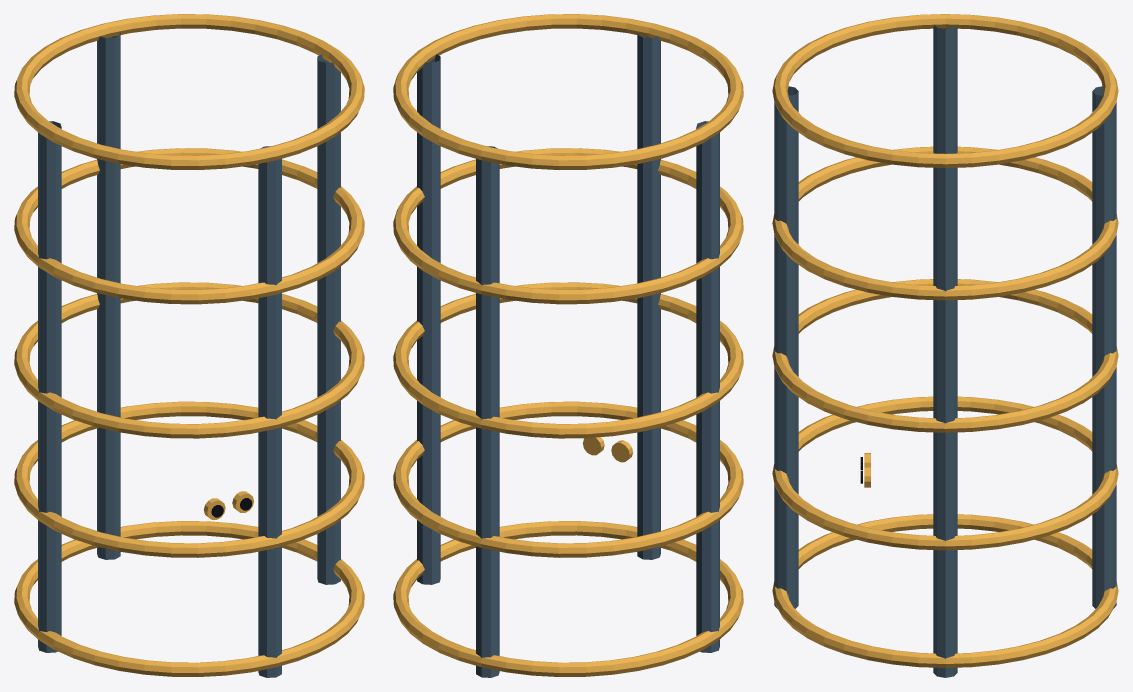
Rendered from 47_L92_DrillToolGuideFrame.fbx.
3 views of the same model, side by side, from view 1: azimuth 30°, elevation 25°; view 2: azimuth 150°, elevation 25°; view 3: azimuth 270°, elevation 25° (orthographic).
Visible parts, largest first — view 1: L92_DrillToolGuideFrame_Part_0001, L92_DrillToolGuideFrame_Part_0000; view 2: L92_DrillToolGuideFrame_Part_0001, L92_DrillToolGuideFrame_Part_0000; view 3: L92_DrillToolGuideFrame_Part_0001, L92_DrillToolGuideFrame_Part_0000.
Part boxes in pixels (left/top/right/bottom): L92_DrillToolGuideFrame_Part_0001: left=14, top=14, right=364, bottom=676; L92_DrillToolGuideFrame_Part_0000: left=38, top=32, right=340, bottom=677; L92_DrillToolGuideFrame_Part_0001: left=393, top=14, right=743, bottom=676; L92_DrillToolGuideFrame_Part_0000: left=417, top=32, right=719, bottom=677; L92_DrillToolGuideFrame_Part_0001: left=772, top=14, right=1118, bottom=667; L92_DrillToolGuideFrame_Part_0000: left=774, top=25, right=1116, bottom=677.
Bounding box in the file's own units: 213 × 355 × 213.
